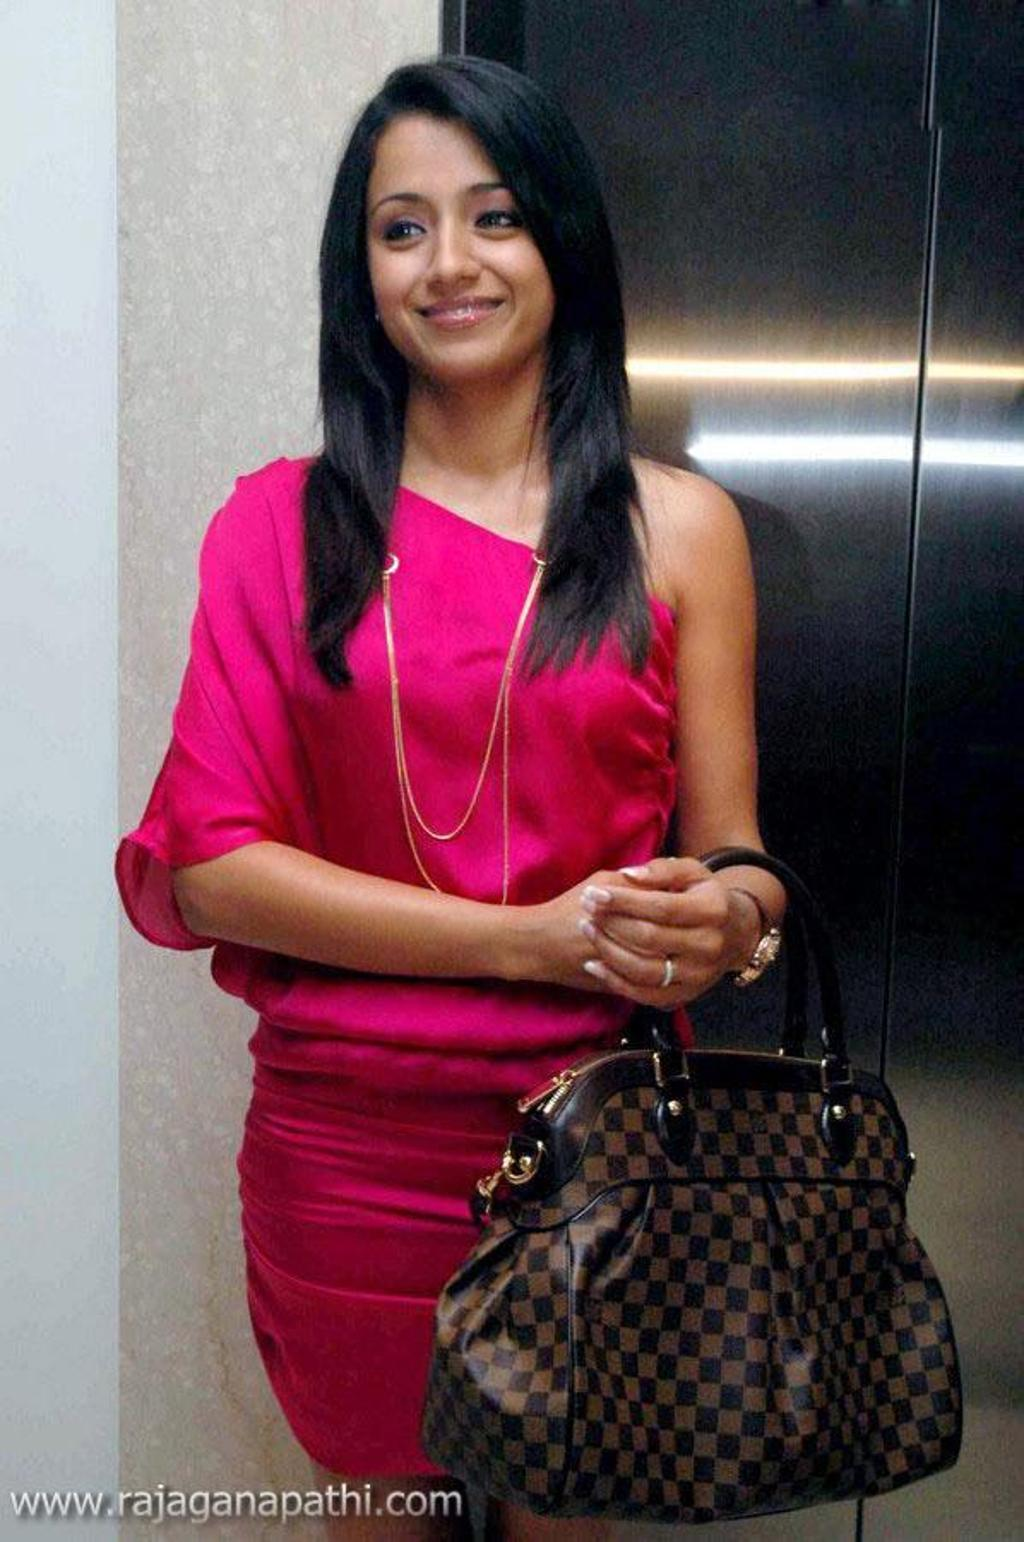face: (361, 99, 551, 379)
